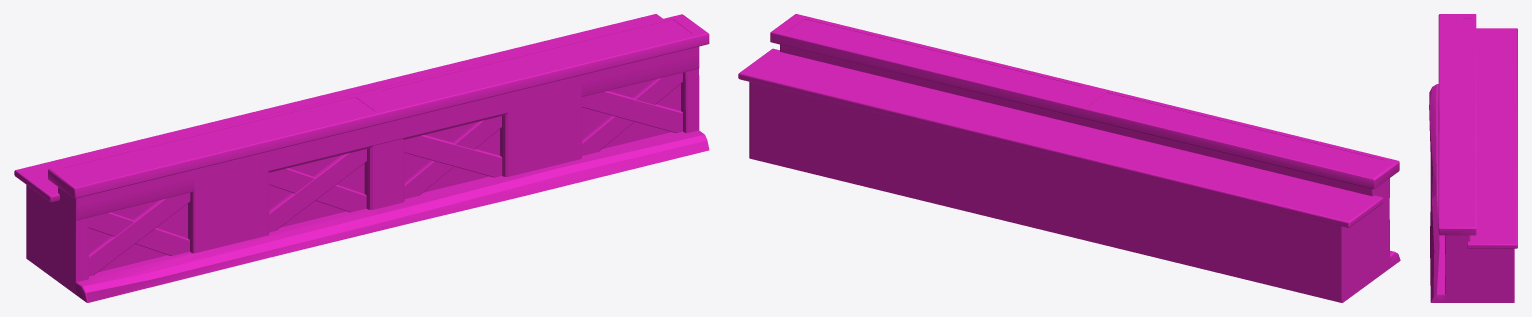
File: Bar.fbx
The picture shows the model from 3 angles, left to right: view 1: azimuth 30°, elevation 25°; view 2: azimuth 150°, elevation 25°; view 3: azimuth 270°, elevation 25°; orthographic projection. The views are drawn at different scales.
Visible parts, largest first — view 1: Cube; view 2: Cube; view 3: Cube.
Part boxes in pixels (left/top/right/bottom): Cube: left=14, top=14, right=709, bottom=302; Cube: left=738, top=14, right=1400, bottom=302; Cube: left=1429, top=14, right=1517, bottom=302.
Size of the model in its own units: 492 by 81.34 by 85.07.
